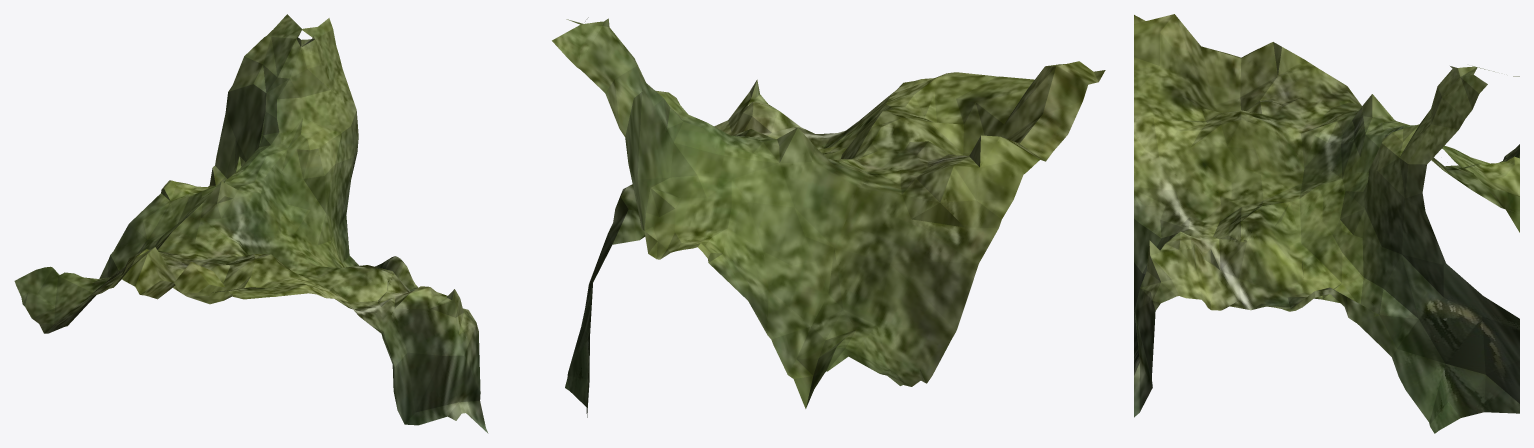
3 renders of one model, left to right at view 1: azimuth 30°, elevation 25°; view 2: azimuth 150°, elevation 25°; view 3: azimuth 270°, elevation 25°, orthographic. The views are drawn at different scales.
Bounding box in the file's own units: 2.95 × 2.95 × 2.95.
Materials: 4 (4 with a texture image).
